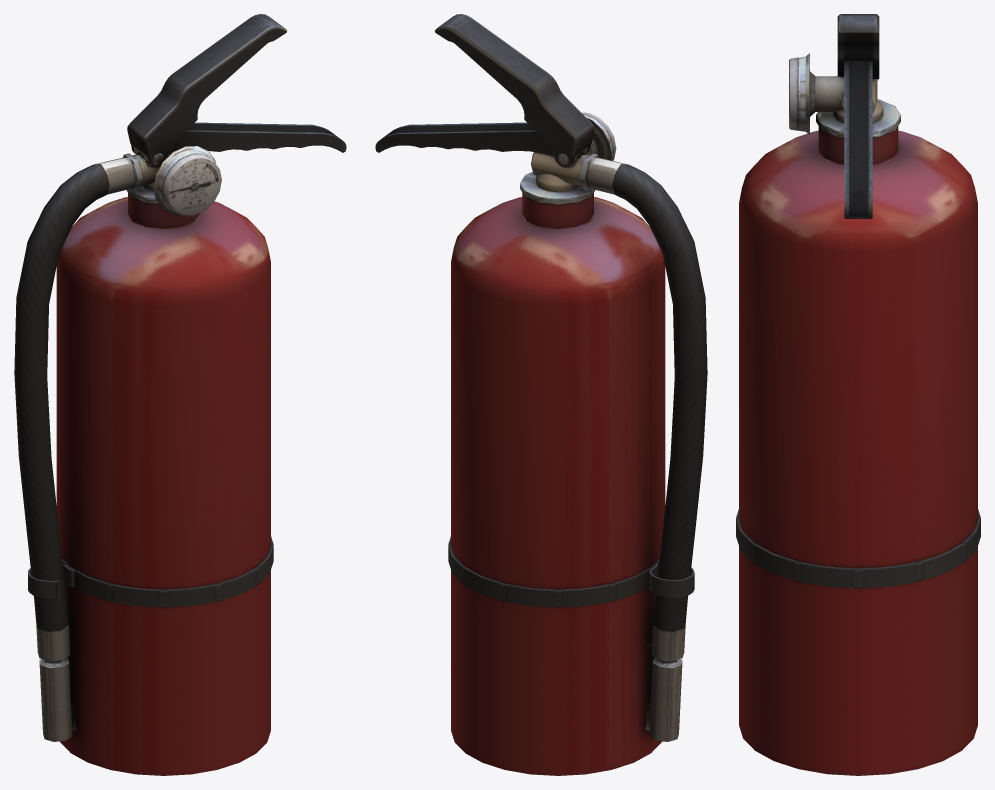
File: extinguisher.dae
The picture shows the model from 3 angles, left to right: view 1: azimuth 30°, elevation 25°; view 2: azimuth 150°, elevation 25°; view 3: azimuth 270°, elevation 25°; orthographic projection. The views are drawn at different scales.
Visible parts, largest first — view 1: Extinguisher; view 2: Extinguisher; view 3: Extinguisher.
Boxes of the visible parts, box(x1,y1,x2,y2) form: Extinguisher: box(14, 14, 346, 775); Extinguisher: box(375, 14, 707, 775); Extinguisher: box(736, 14, 980, 775).
Size of the model in its own units: 21.2 by 12.45 by 42.84.
1 material, 1 textured.
